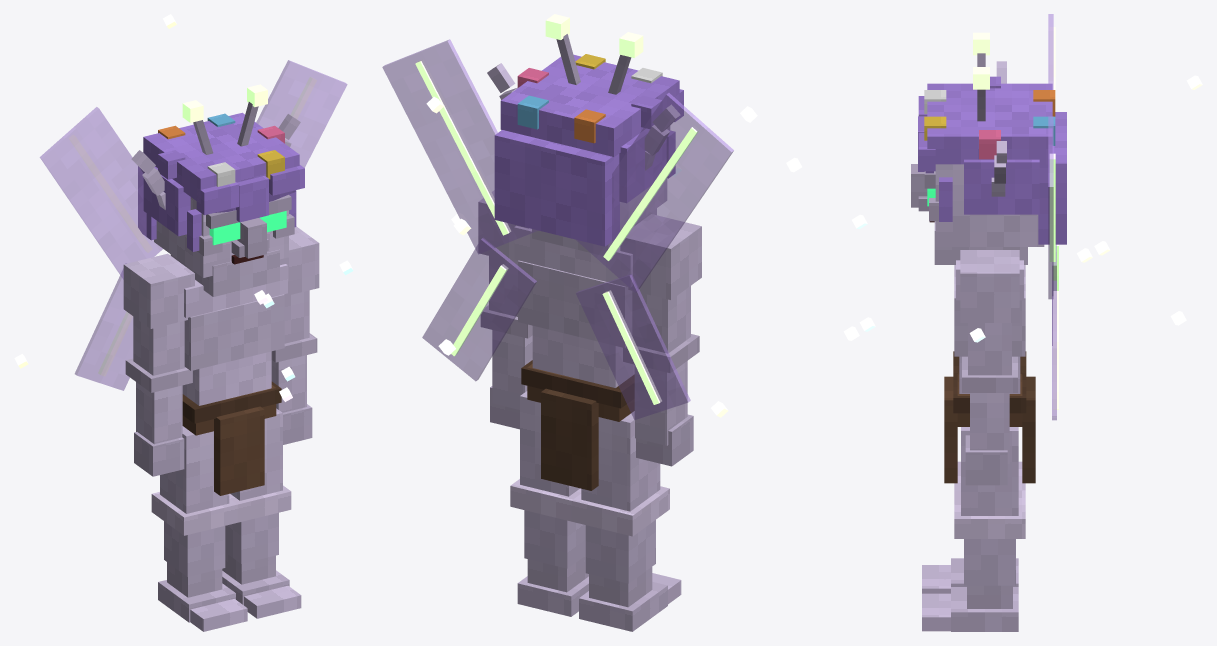
File: fairy_base_v3.glb
3 views of the same model, side by side, from view 1: azimuth 30°, elevation 25°; view 2: azimuth 150°, elevation 25°; view 3: azimuth 270°, elevation 25° (orthographic). The views are drawn at different scales.
Parts seen in each view (by area): view 1: Torso, Head, ArmR, LegR, LegL, ArmL; view 2: Torso, Head, LegR, ArmR, LegL, ArmL; view 3: Head, ArmL, LegL, Torso, LegR.
Part boxes in pixels (box(x1,y1,x2,y2)): Torso: box(14, 14, 353, 495); Head: box(131, 84, 304, 296); ArmR: box(123, 253, 194, 476); LegR: box(151, 426, 247, 631); LegL: box(222, 408, 301, 618); ArmL: box(271, 226, 319, 444); Torso: box(382, 39, 757, 490); Head: box(487, 14, 683, 255); LegR: box(571, 411, 681, 631); ArmR: box(620, 214, 701, 466); LegL: box(510, 391, 588, 616); ArmL: box(478, 190, 532, 429); Head: box(911, 32, 1066, 264); ArmL: box(960, 250, 1019, 485); LegL: box(922, 427, 1025, 631); Torso: box(786, 14, 1202, 483); LegR: box(922, 461, 1025, 593).
Bounding box in the file's own units: 0.7287 × 1.11 × 0.7622.
Materials: 31 (31 with a texture image).
